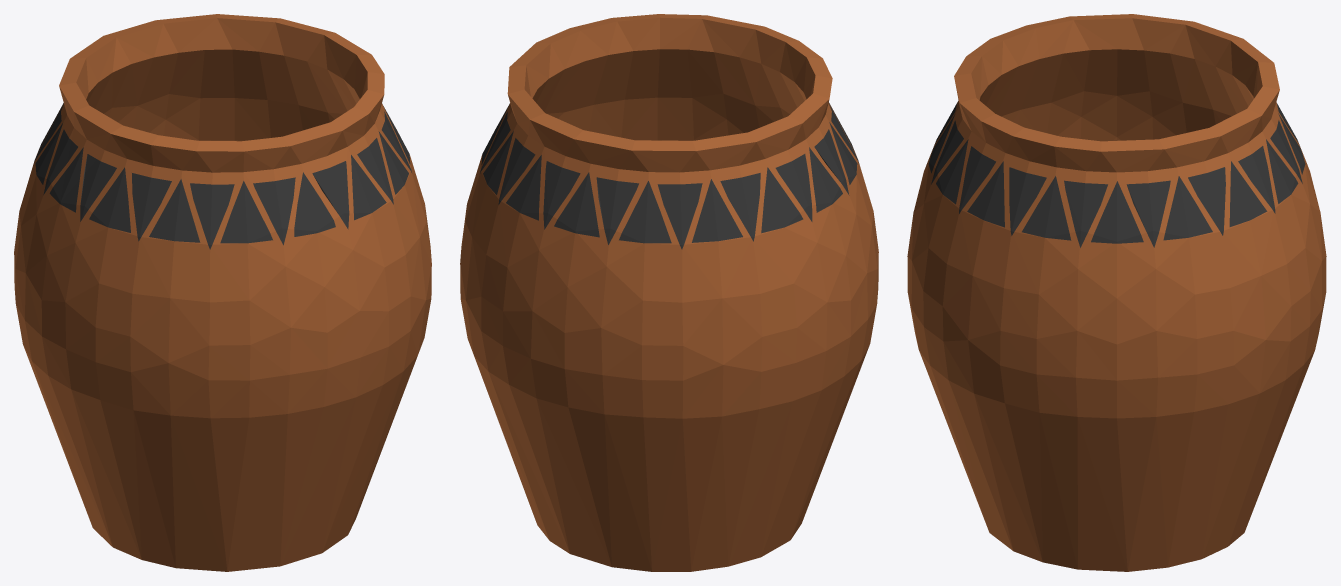
Rendered from Pottery 17_1.fbx.
The picture shows the model from 3 angles, left to right: view 1: azimuth 30°, elevation 25°; view 2: azimuth 150°, elevation 25°; view 3: azimuth 270°, elevation 25°; orthographic projection.
Parts seen in each view (by area): view 1: Pottery 17_1; view 2: Pottery 17_1; view 3: Pottery 17_1.
Part boxes in pixels (left/top/right/bottom): Pottery 17_1: left=14, top=14, right=431, bottom=571; Pottery 17_1: left=460, top=14, right=878, bottom=571; Pottery 17_1: left=907, top=14, right=1326, bottom=571.
Size of the model in its own units: 72.32 by 83.05 by 72.32.
